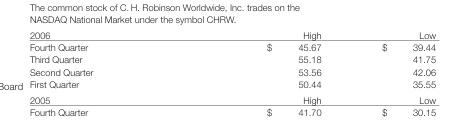table: (28, 29, 435, 88)
table column: (179, 29, 350, 88), (28, 29, 179, 88), (350, 29, 435, 88)
table column header: (28, 29, 435, 40)
table row: (28, 52, 435, 65), (28, 40, 435, 52), (28, 65, 435, 77), (28, 29, 435, 40), (28, 77, 435, 88)
